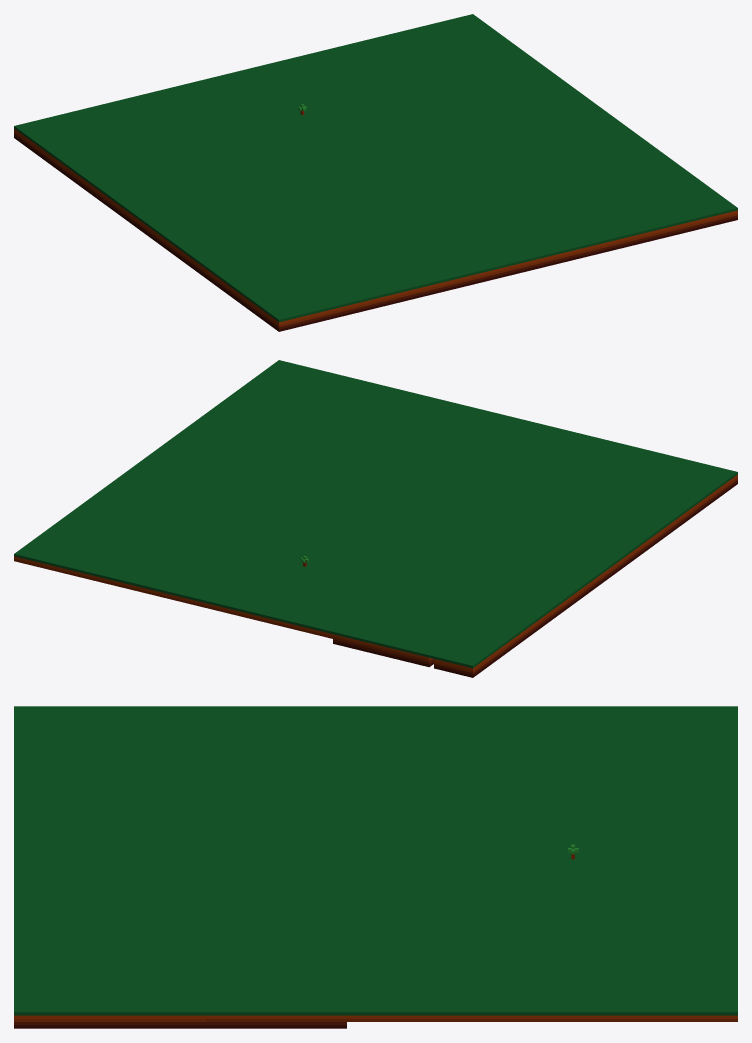
The model's file is landscape.glb.
The picture shows the model from 3 angles, top to bottom: view 1: azimuth 30°, elevation 25°; view 2: azimuth 150°, elevation 25°; view 3: azimuth 270°, elevation 25°; orthographic projection. The views are drawn at different scales.
Parts seen in each view (by area): view 1: Untitled; view 2: Untitled; view 3: Untitled.
Boxes of the visible parts, <box> form: Untitled: <box>14,14,737,331</box>; Untitled: <box>14,360,737,677</box>; Untitled: <box>14,706,737,1028</box>.
Size of the model in its own units: 20 by 0.9 by 20.
1 material, 1 textured.
